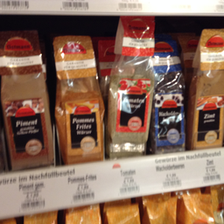spices: (2, 30, 55, 168), (52, 34, 107, 163), (106, 17, 157, 155), (188, 28, 224, 149), (152, 39, 187, 151)
